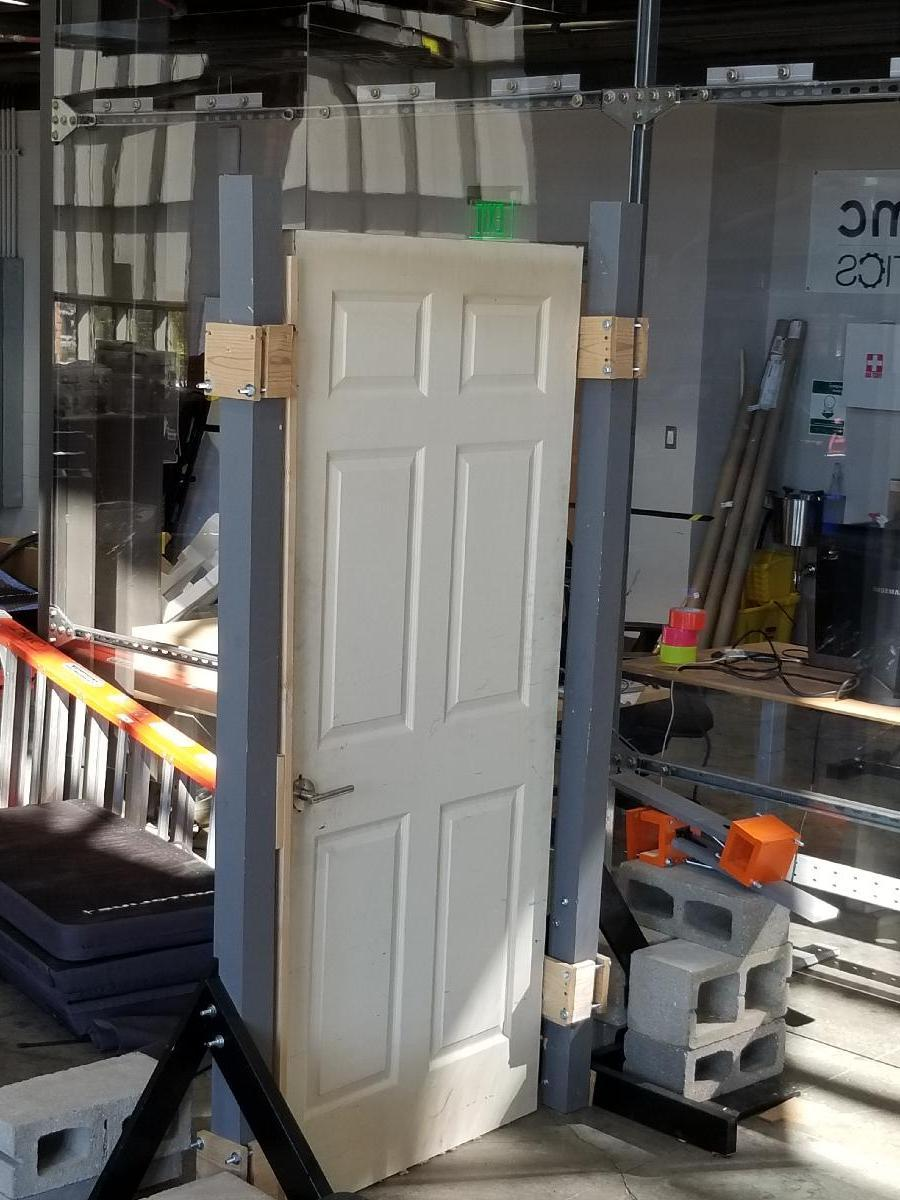door: (260, 235, 586, 1182)
handle: (290, 773, 356, 815)
